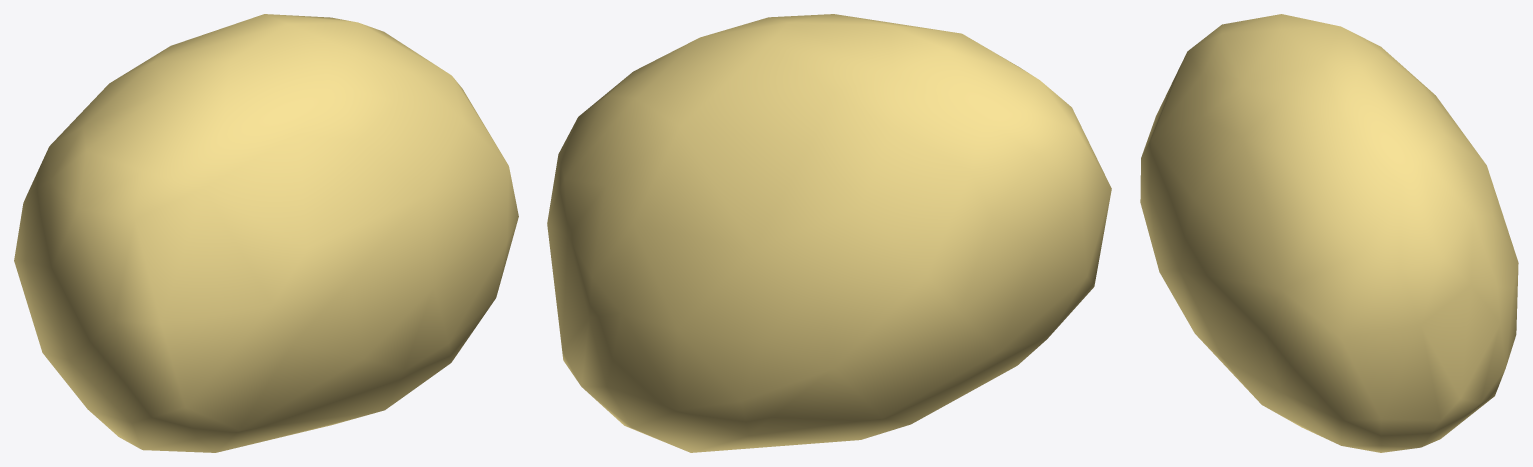
Rendered from fma73422.glb.
3 renders of one model, left to right at view 1: azimuth 30°, elevation 25°; view 2: azimuth 150°, elevation 25°; view 3: azimuth 270°, elevation 25°, orthographic. The views are drawn at different scales.
Visible parts, largest first — view 1: FMA73422; view 2: FMA73422; view 3: FMA73422.
Boxes of the visible parts, x1,y1,x2,y2 form: FMA73422: (14,14,518,452); FMA73422: (547,14,1111,452); FMA73422: (1140,14,1518,452).
Bounding box in the file's own units: 0.0074 × 0.00577 × 0.00576.
